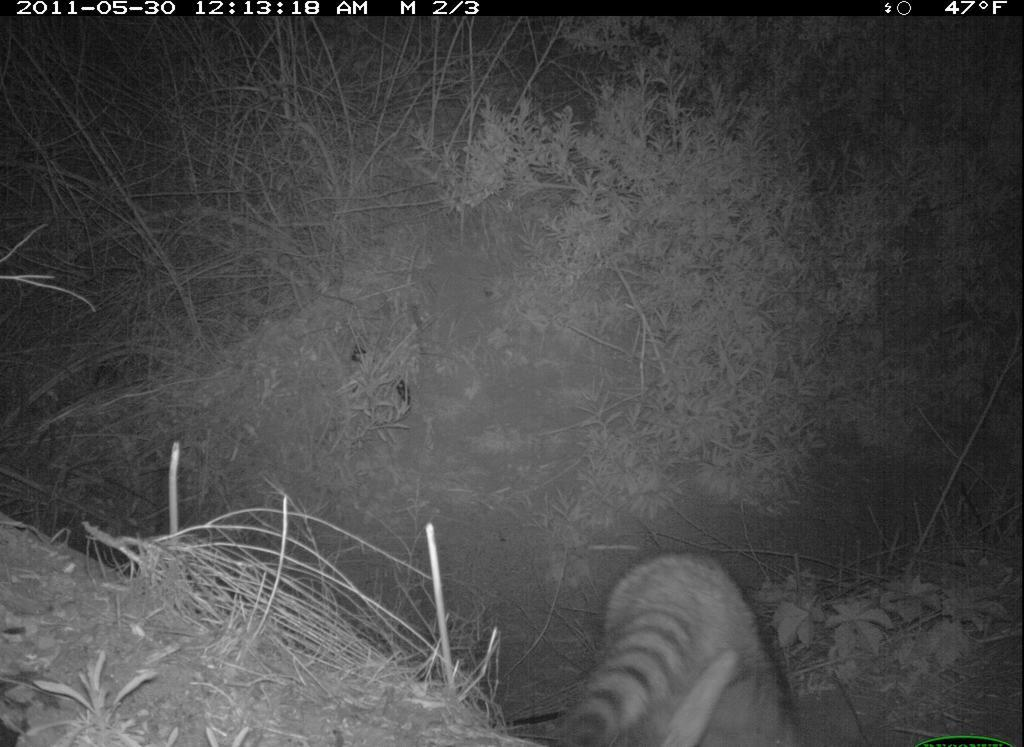raccoon: (553, 543, 817, 745)
